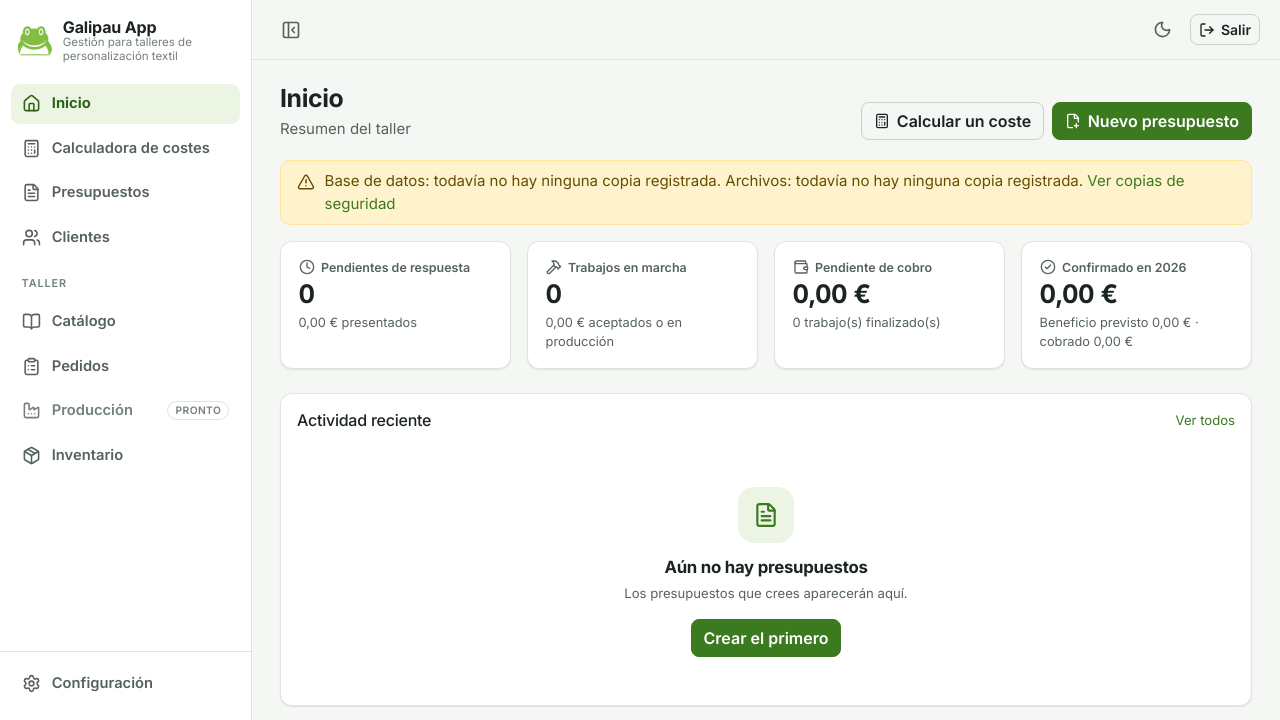
Test: estructura y navegación › los módulos futuros se ven como «Pronto» y explican que no están disponibles
Expected: the navigation bar named "Navegación principal" is shown, x1=0 y1=80 x2=251 y2=651
What coordinates should you click on to do the following:
click the link "Producción Pronto"
I would click on:
 (126, 411)
Its box is x1=22 y1=401 x2=229 y2=420.
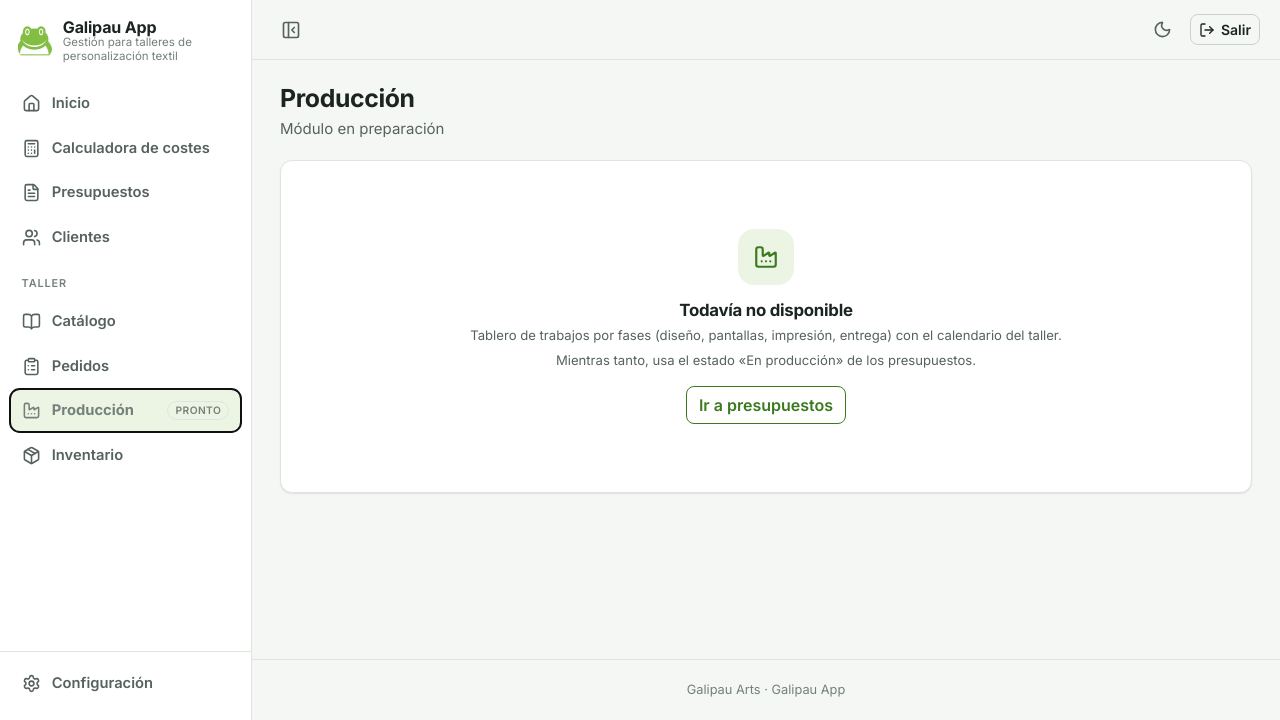
Expected: the heading "Producción" is shown, x1=280 y1=83 x2=415 y2=113
Expected: the heading "Todavía no disponible" is shown, x1=679 y1=300 x2=853 y2=320
Expected: the text "Módulo en preparación" is shown, x1=280 y1=117 x2=444 y2=140
